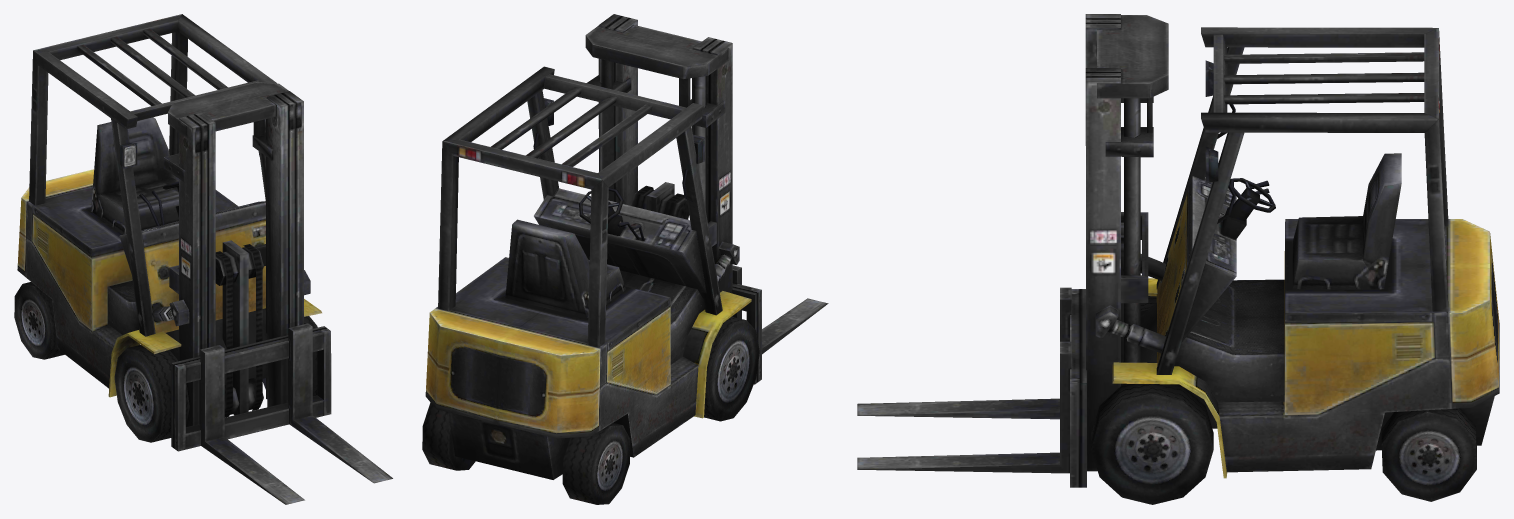
Rendered from forklift_ts.glb.
The picture shows the model from 3 angles, left to right: view 1: azimuth 30°, elevation 25°; view 2: azimuth 150°, elevation 25°; view 3: azimuth 270°, elevation 25°; orthographic projection. The views are drawn at different scales.
Parts seen in each view (by area): view 1: Object_2; view 2: Object_2; view 3: Object_2.
Part boxes in pixels (box(x1,y1,x2,y2)): Object_2: box(14, 14, 392, 504); Object_2: box(422, 14, 828, 504); Object_2: box(857, 14, 1499, 504).
Size of the model in its own units: 1.19 by 2.19 by 3.14.
1 material, 1 textured.
